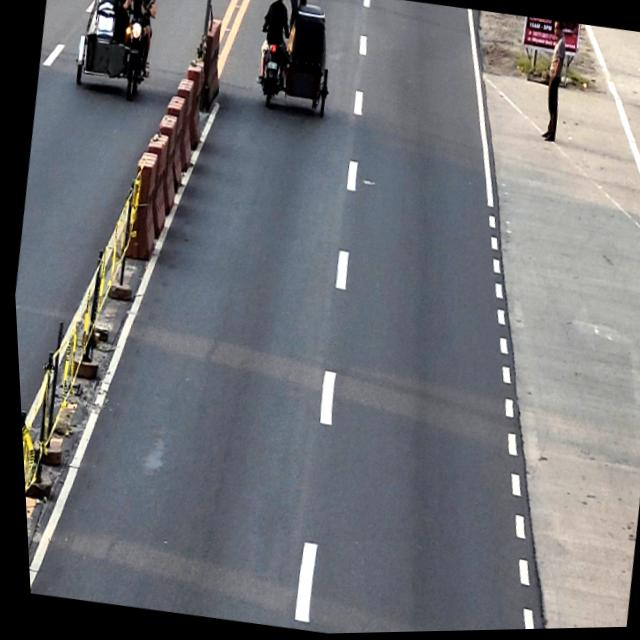License-Plate: (265, 62, 278, 72)
Tricycle: (248, 0, 344, 122), (67, 0, 164, 103)
